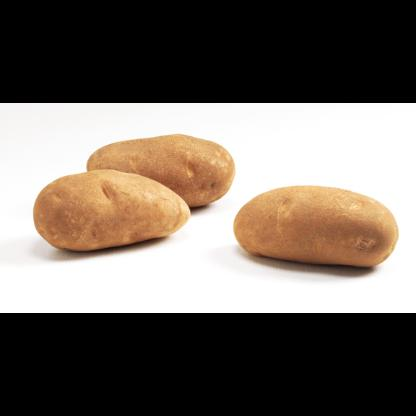potato: (233, 183, 398, 266), (34, 169, 190, 251), (87, 132, 235, 206)
